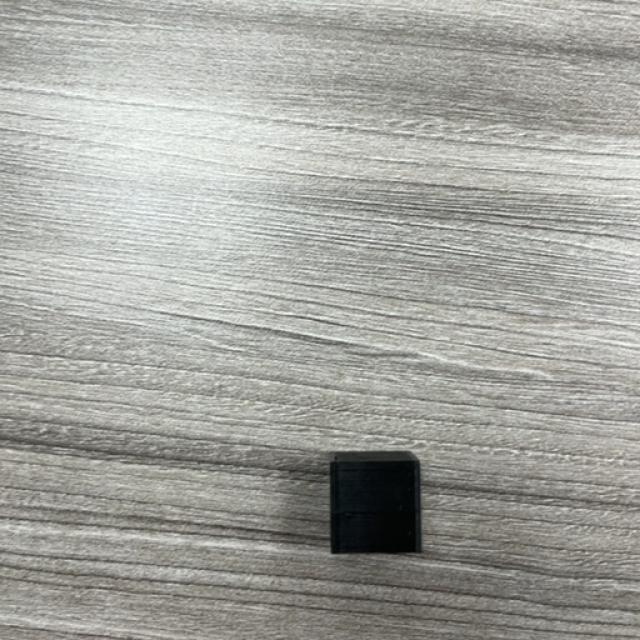Negro: (329, 451, 424, 556)
